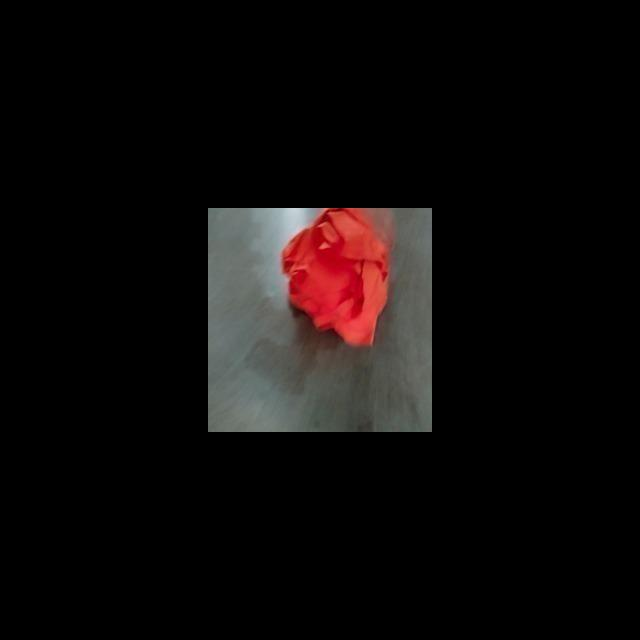paper: (276, 208, 394, 351)
